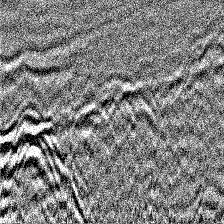cavities: (0, 101, 90, 224)
